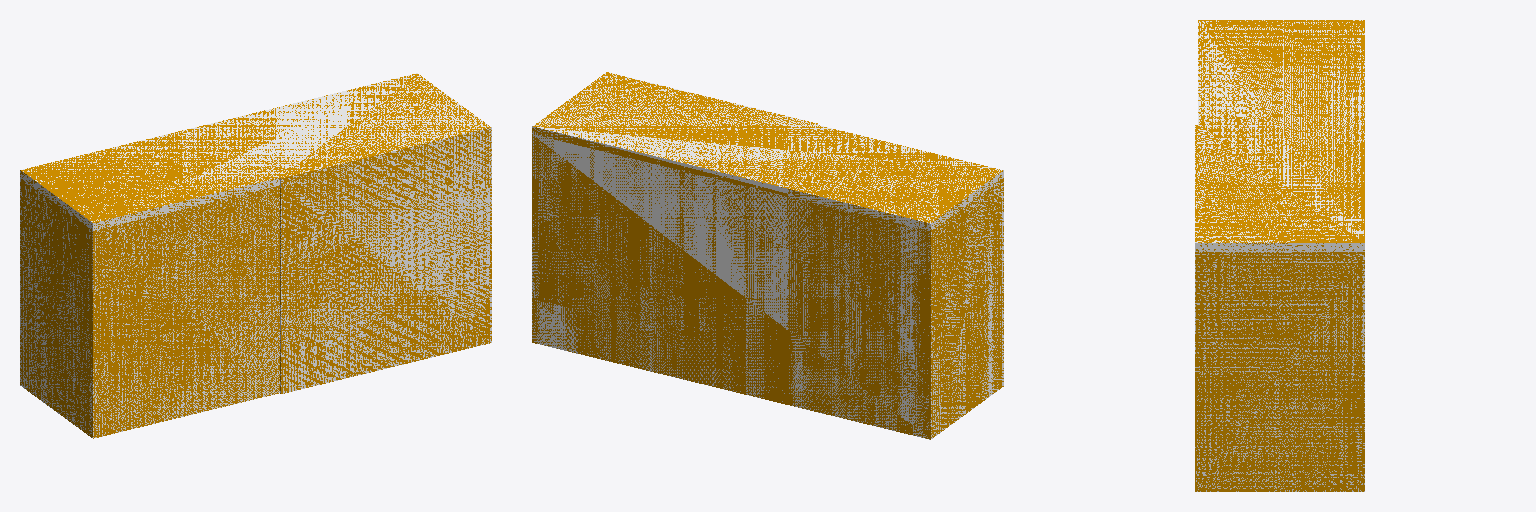
URDF robot description (my_object):
<?xml version="1.0" ?> 
<robot name="my_object" static="true">
  <link name="base_link">
  <inertial>
    <mass value="1.0" />
    <origin xyz="0 0 0.0" />
    <inertia ixx="1.0" ixy="0.0" ixz="0.0" iyy="1.0" iyz="0.0" izz="1.0"/>
  </inertial>
  <visual>
   <origin xyz="0 0 0.0" rpy="0 0 -1.570796327" />
   <geometry>
     <mesh filename="package://cob_gazebo_objects/Media/models/cabinet_living_room.dae"/>
   </geometry>
  </visual>
  <collision>
   <origin xyz="0 0 0.41" rpy="0 0 0" />
   <geometry>
     <box size="1.6 0.52 0.82" />
   </geometry>
  </collision>     
  </link>

<gazebo>
	<static>true</static>
</gazebo>
</robot>

--- Facts derived from the render (not from the file) ---
Views: 3 orthographic renders of the robot side by side, from view 1: azimuth 30°, elevation 25°; view 2: azimuth 150°, elevation 25°; view 3: azimuth 270°, elevation 25°.
Model my_object with 1 links and 0 joints (none), rooted at base_link, posed all joints at 0.
Links seen in each view (by area): view 1: base_link; view 2: base_link; view 3: base_link.
Link boxes in pixels (x1,y1,x2,y2): base_link: (20,73,491,438); base_link: (532,72,1003,439); base_link: (1195,20,1364,491).
Bounding box of the posed robot: 1.58 × 0.5103 × 0.8206 m (x, y, z).
1 mesh visuals loaded from 1 distinct referenced files (1 Collada DAE).